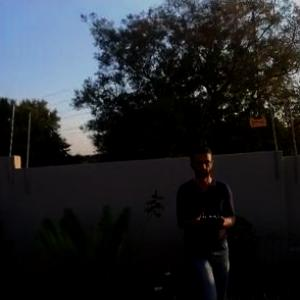follow: (169, 152, 240, 299)
